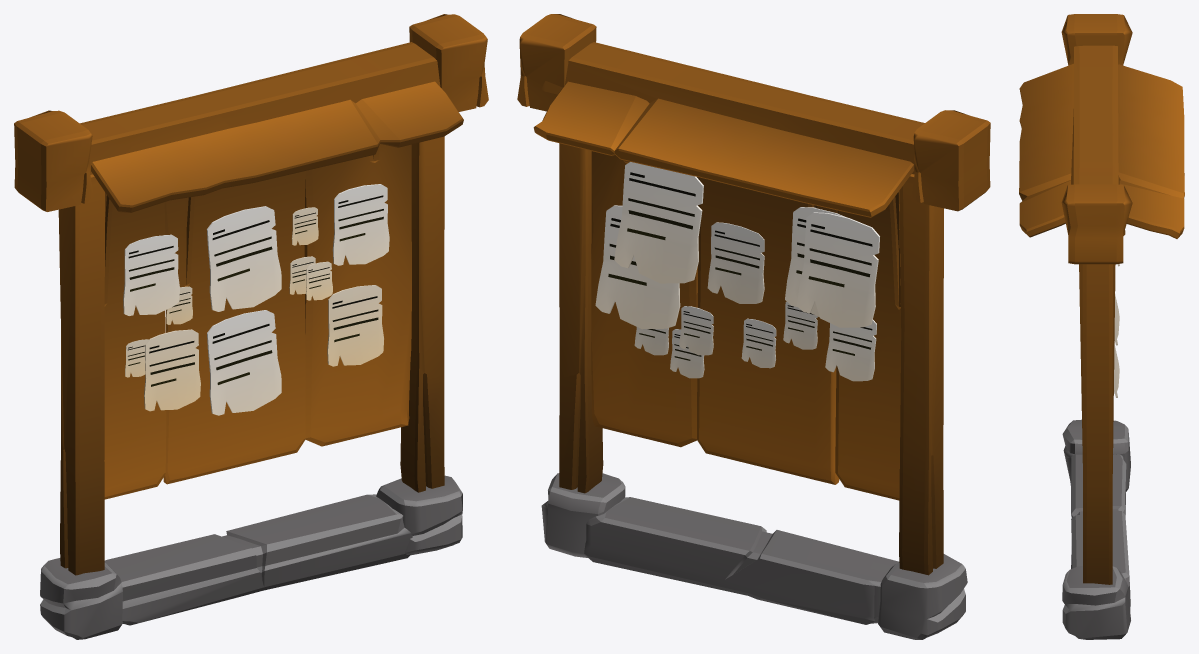
Rendered from Quest_Board_01.fbx.
3 renders of one model, left to right at view 1: azimuth 30°, elevation 25°; view 2: azimuth 150°, elevation 25°; view 3: azimuth 270°, elevation 25°, orthographic. The views are drawn at different scales.
Visible parts, largest first — view 1: polySurface20; view 2: polySurface20; view 3: polySurface20.
Boxes of the visible parts, x1,y1,x2,y2 form: polySurface20: (14, 14, 488, 639); polySurface20: (517, 14, 990, 639); polySurface20: (1019, 14, 1184, 639).
Size of the model in its own units: 15.78 by 17.19 by 5.76.
Materials: 1 (1 with a texture image).
